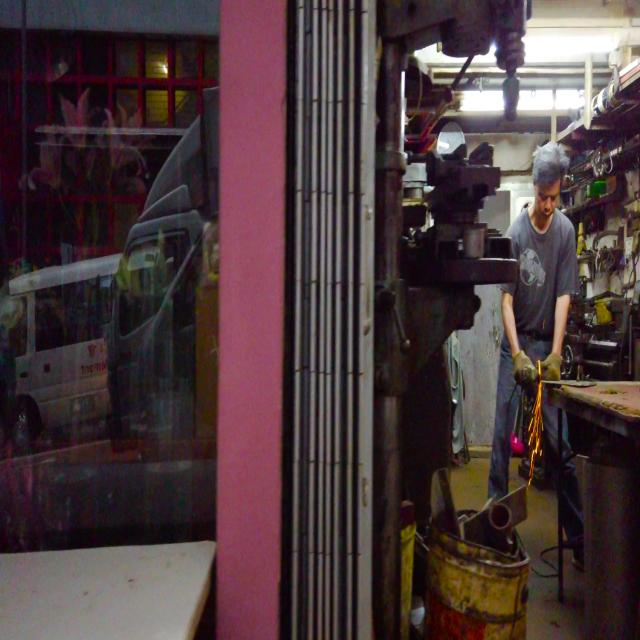gloved: (512, 350, 537, 386), (539, 352, 563, 382)
